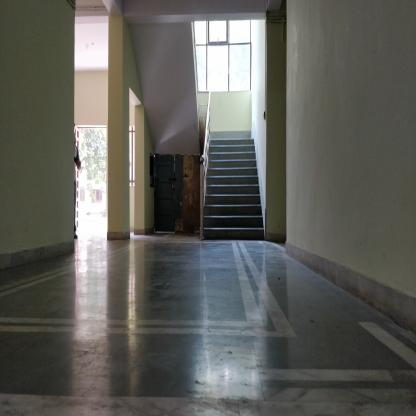stairs: (212, 135, 255, 245)
